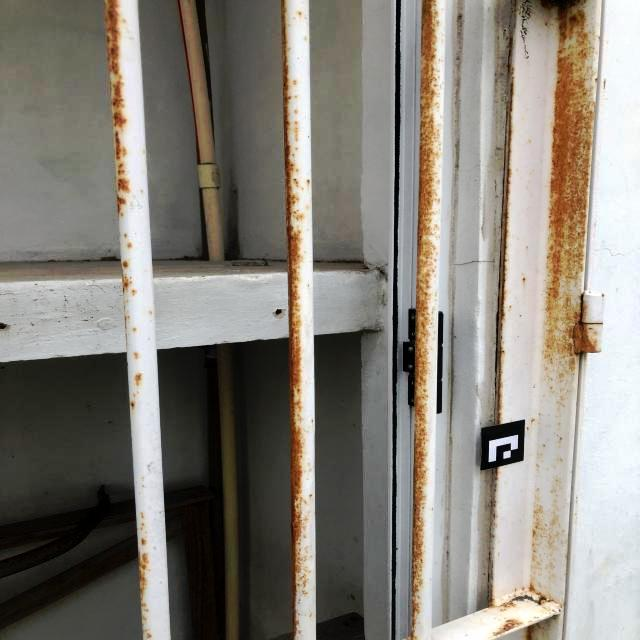Corrosion: (404, 0, 443, 640), (538, 0, 601, 380), (281, 0, 313, 640), (496, 77, 515, 425), (105, 0, 132, 218), (529, 474, 569, 591), (483, 585, 518, 612), (551, 377, 574, 414), (138, 547, 151, 612), (488, 619, 525, 638), (527, 583, 555, 605), (521, 622, 541, 640), (121, 269, 133, 295), (124, 303, 130, 350), (507, 36, 514, 75), (493, 506, 502, 526), (293, 123, 300, 142), (512, 587, 522, 600), (488, 496, 494, 516), (134, 373, 143, 386), (517, 587, 530, 596), (495, 477, 501, 496), (123, 260, 130, 269), (495, 466, 499, 481), (494, 497, 498, 512), (130, 401, 136, 410), (141, 538, 147, 546), (145, 633, 152, 639), (132, 289, 137, 297), (531, 418, 536, 426), (133, 352, 139, 358), (142, 615, 147, 622), (514, 0, 518, 8), (603, 79, 606, 89), (127, 243, 132, 248), (294, 107, 299, 112), (141, 511, 144, 519), (560, 456, 563, 464), (124, 233, 128, 238), (139, 527, 144, 531), (143, 629, 147, 634), (294, 80, 297, 86), (298, 11, 302, 15), (307, 178, 311, 182), (133, 392, 136, 397), (309, 613, 312, 617), (141, 523, 145, 526), (559, 608, 561, 612), (560, 436, 562, 440), (137, 391, 139, 394), (527, 427, 529, 430), (543, 444, 545, 446)
